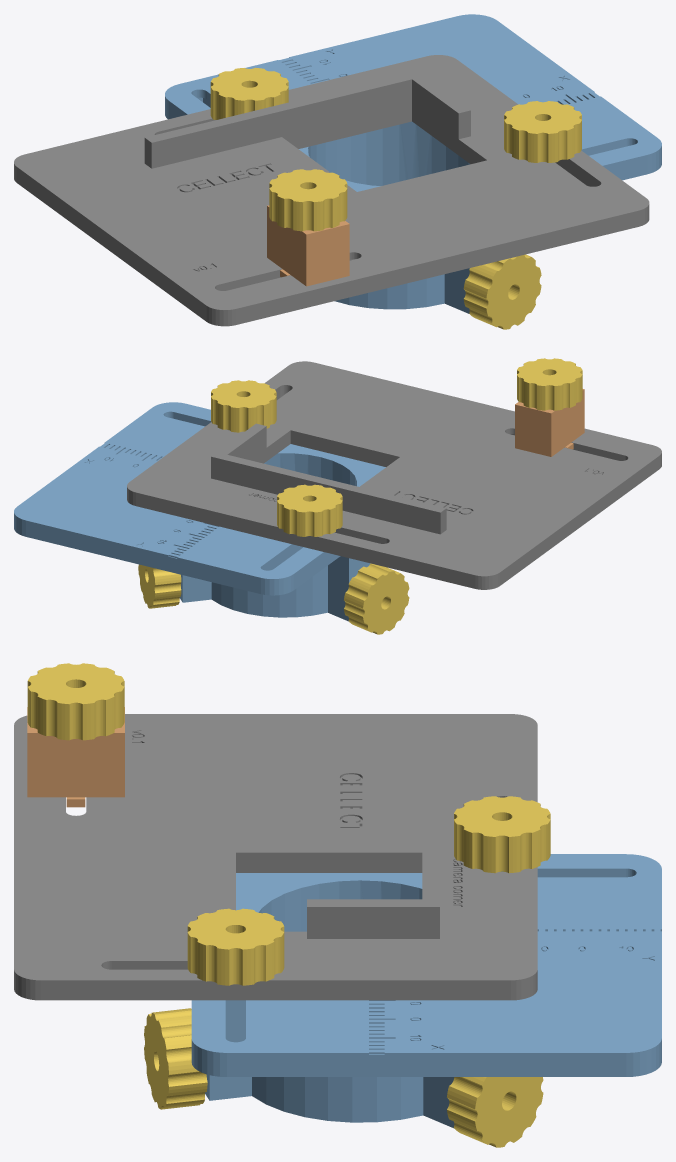
The model's file is cellect_mount.glb.
3 renders of one model, top to bottom at view 1: azimuth 30°, elevation 25°; view 2: azimuth 150°, elevation 25°; view 3: azimuth 270°, elevation 25°, orthographic. The views are drawn at different scales.
Parts seen in each view (by area): view 1: plate, collar, knob_c2, knob_jaw, knob_A, jaw, knob_B; view 2: plate, collar, knob_c1, knob_B, knob_jaw, jaw, knob_A, knob_c0; view 3: plate, collar, knob_jaw, knob_A, knob_B, jaw, knob_c0, knob_c2.
Part boxes in pixels (box(x1,y1,x2,y2)): plate: box(14, 55, 649, 326); collar: box(165, 14, 661, 313); knob_c2: box(463, 254, 541, 329); knob_jaw: box(269, 169, 347, 231); knob_A: box(504, 101, 581, 162); jaw: box(267, 205, 349, 286); knob_B: box(210, 67, 288, 119); plate: box(127, 361, 661, 589); collar: box(14, 402, 385, 621); knob_c1: box(344, 563, 409, 634); knob_B: box(277, 484, 342, 536); knob_jaw: box(517, 358, 582, 410); jaw: box(515, 389, 584, 456); knob_A: box(211, 380, 276, 432); knob_c0: box(138, 564, 181, 608); plate: box(14, 714, 537, 1000); collar: box(191, 854, 661, 1128); knob_jaw: box(27, 663, 124, 740); knob_A: box(187, 908, 284, 985); knob_B: box(454, 796, 550, 873); jaw: box(27, 707, 124, 807); knob_c0: box(447, 1077, 543, 1147); knob_c2: box(144, 1008, 207, 1109).
Bounding box in the file's own units: 0.17 × 0.0689 × 0.146.
